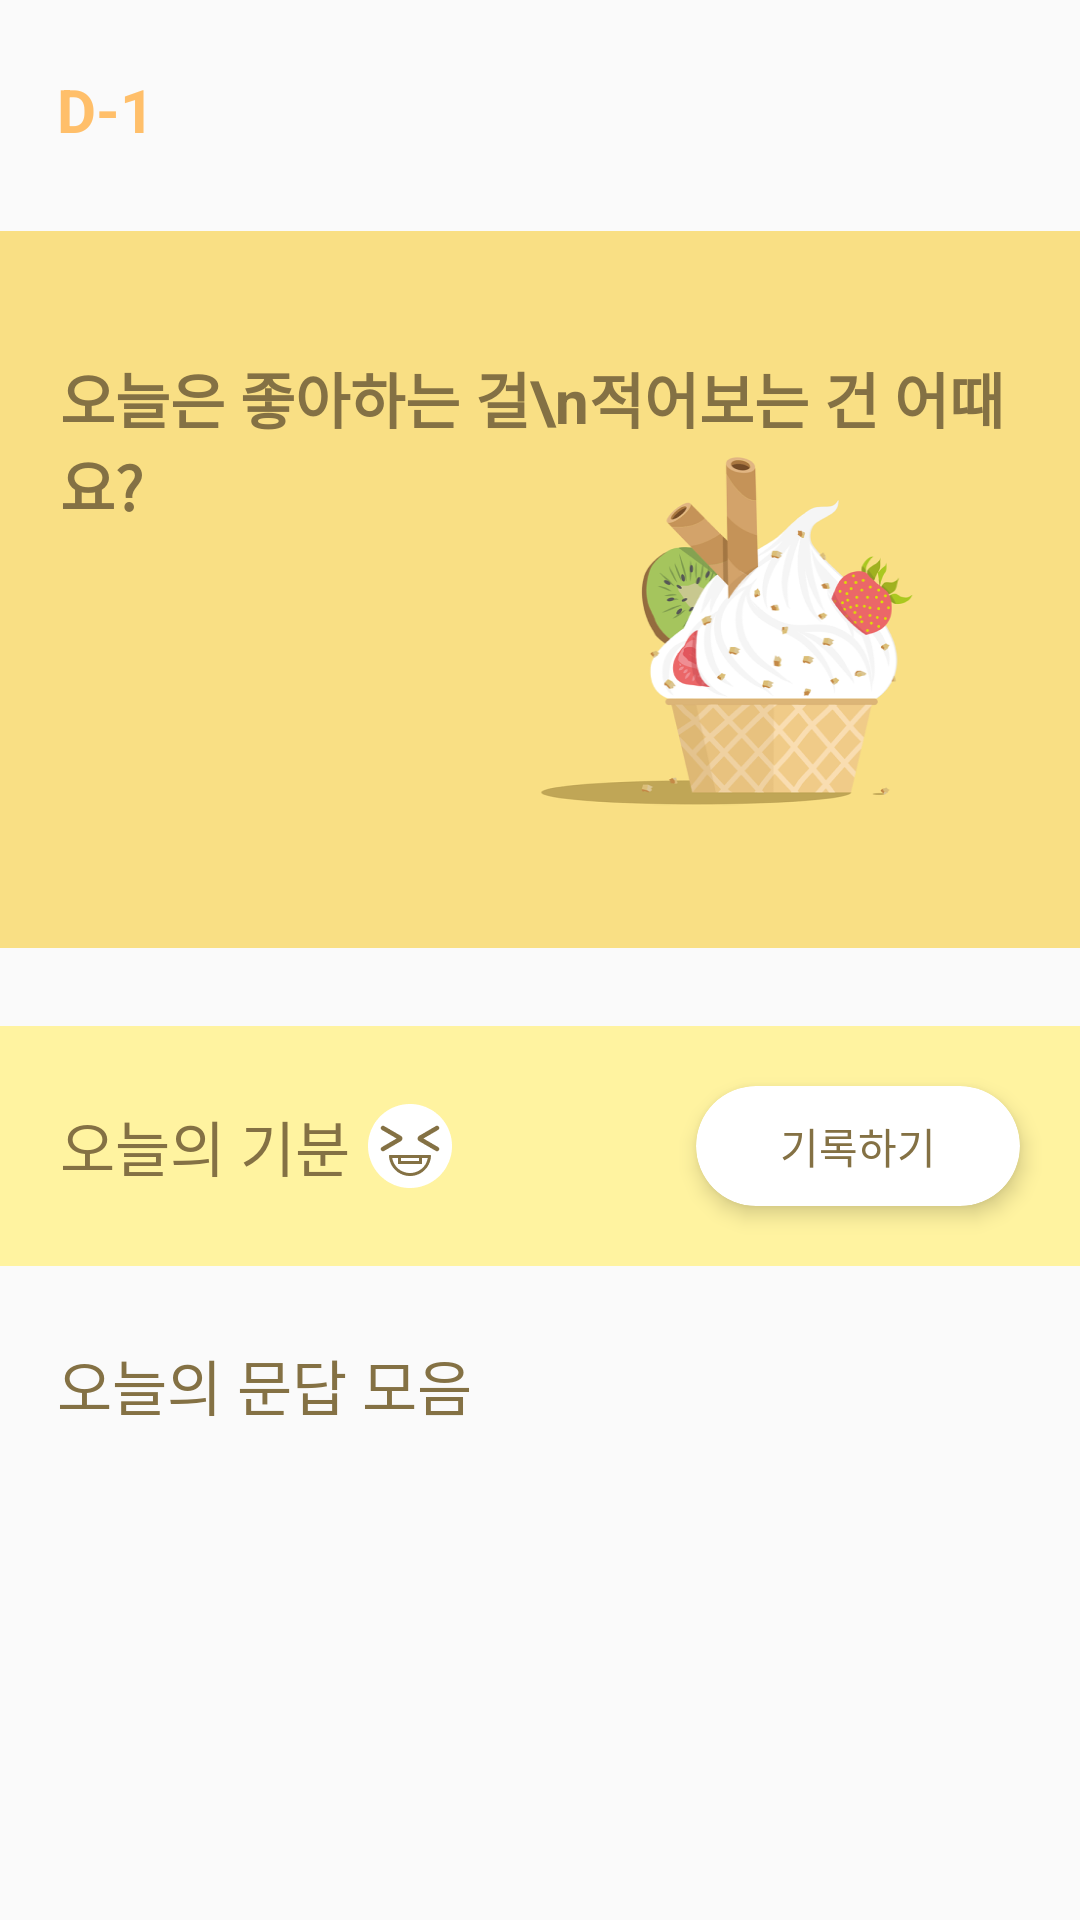

Named icons in this screenshot (1080w x 1920h) and their centers, point (x, y):
smile: point (410, 1146)
